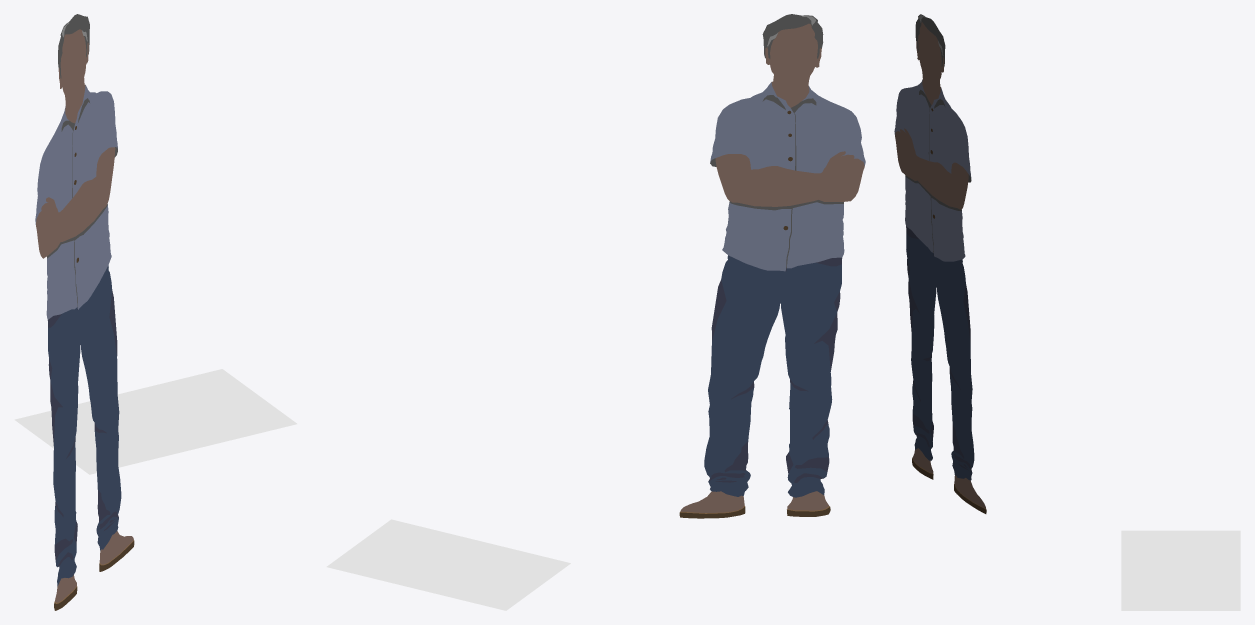
File: paper_sheet_big.fbx
3 views of the same model, side by side, from view 1: azimuth 30°, elevation 25°; view 2: azimuth 150°, elevation 25°; view 3: azimuth 270°, elevation 25° (orthographic). The views are drawn at different scales.
Parts seen in each view (by area): view 1: Niraj1, Group1; view 2: Niraj1, Group1; view 3: Niraj1, Group1.
Boxes of the visible parts, left/top/right/bottom form: Niraj1: left=35, top=14, right=134, bottom=610; Group1: left=14, top=369, right=296, bottom=474; Niraj1: left=679, top=14, right=865, bottom=518; Group1: left=326, top=519, right=570, bottom=610; Niraj1: left=894, top=14, right=986, bottom=513; Group1: left=1121, top=530, right=1240, bottom=610.
Bounding box in the file's own units: 51.39 × 70.5 × 47.95.
